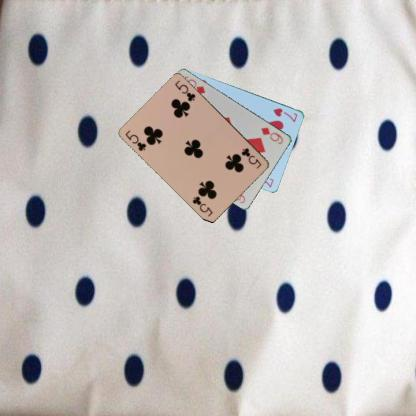5c: (239, 145, 263, 170), (123, 128, 148, 152)
6d: (258, 124, 285, 146)
7h: (271, 105, 299, 124)
